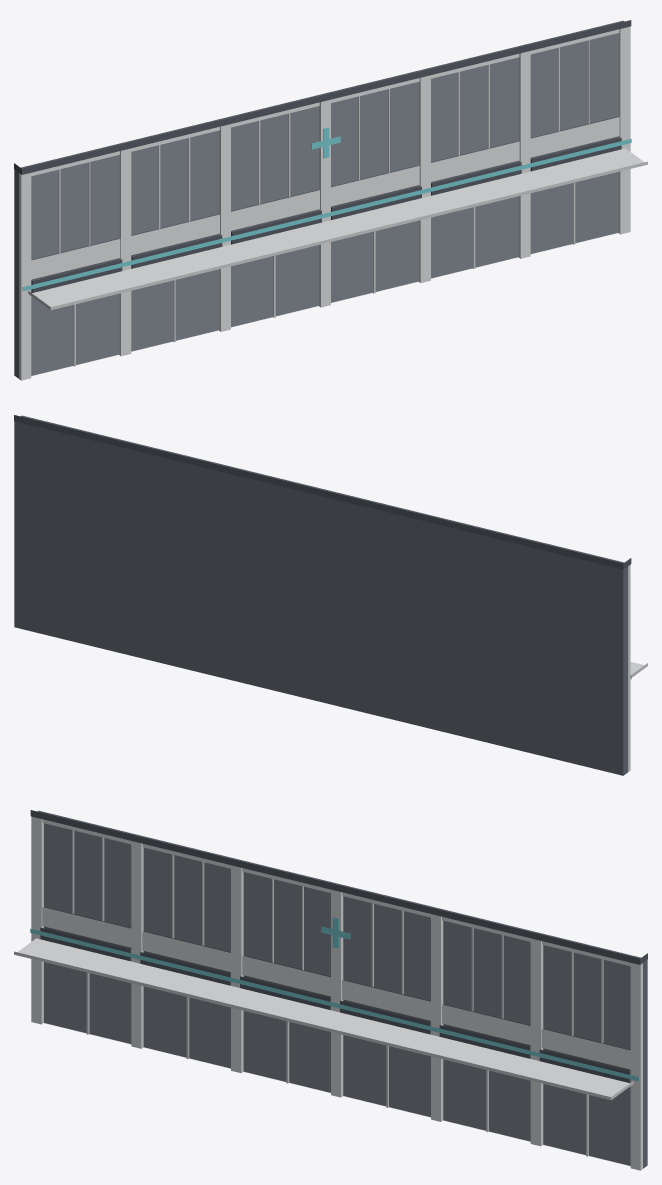
Rendered from ext_nbr_clinic_market.glb.
3 renders of one model, top to bottom at view 1: azimuth 30°, elevation 25°; view 2: azimuth 150°, elevation 25°; view 3: azimuth 330°, elevation 25°, orthographic.
Visible parts, largest first — view 1: Wall, Glass, Hall_Glass, Piers, Hall_Canopy, Spandrels, Cornice, Hall_Frames, Civic_Band, Mullions, Hall_Mullions; view 2: Wall, Cornice, Piers; view 3: Wall, Glass, Hall_Glass, Piers, Hall_Canopy, Spandrels, Cornice, Hall_Frames, Civic_Band, Mullions, Hall_Mullions.
Boxes of the visible parts, bbox=[...] form: Wall: bbox=[14, 33, 617, 378]; Glass: bbox=[31, 33, 618, 258]; Hall_Glass: bbox=[31, 172, 618, 375]; Piers: bbox=[19, 26, 630, 380]; Hall_Canopy: bbox=[28, 148, 647, 310]; Spandrels: bbox=[31, 29, 619, 279]; Cornice: bbox=[14, 20, 631, 174]; Hall_Frames: bbox=[31, 137, 621, 292]; Civic_Band: bbox=[22, 138, 631, 291]; Mullions: bbox=[58, 40, 589, 253]; Hall_Mullions: bbox=[73, 182, 575, 366]; Wall: bbox=[14, 421, 627, 775]; Cornice: bbox=[14, 415, 631, 569]; Piers: bbox=[628, 565, 630, 772]; Wall: bbox=[44, 823, 647, 1168]; Glass: bbox=[43, 823, 630, 1048]; Hall_Glass: bbox=[43, 962, 630, 1165]; Piers: bbox=[31, 816, 642, 1170]; Hall_Canopy: bbox=[14, 938, 633, 1100]; Spandrels: bbox=[42, 819, 630, 1069]; Cornice: bbox=[30, 810, 647, 964]; Hall_Frames: bbox=[40, 927, 630, 1082]; Civic_Band: bbox=[30, 928, 639, 1081]; Mullions: bbox=[72, 830, 603, 1043]; Hall_Mullions: bbox=[86, 972, 588, 1156].
Bounding box in the file's own units: 30 × 10 × 2.62.
